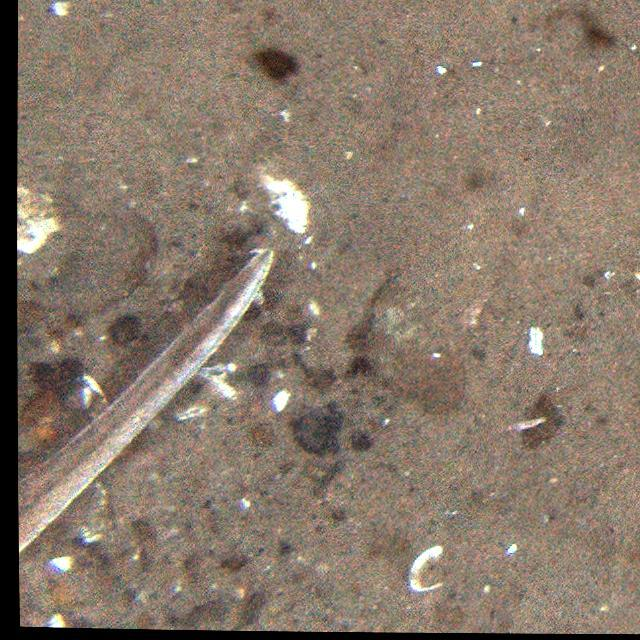skate: (18, 250, 282, 582)
